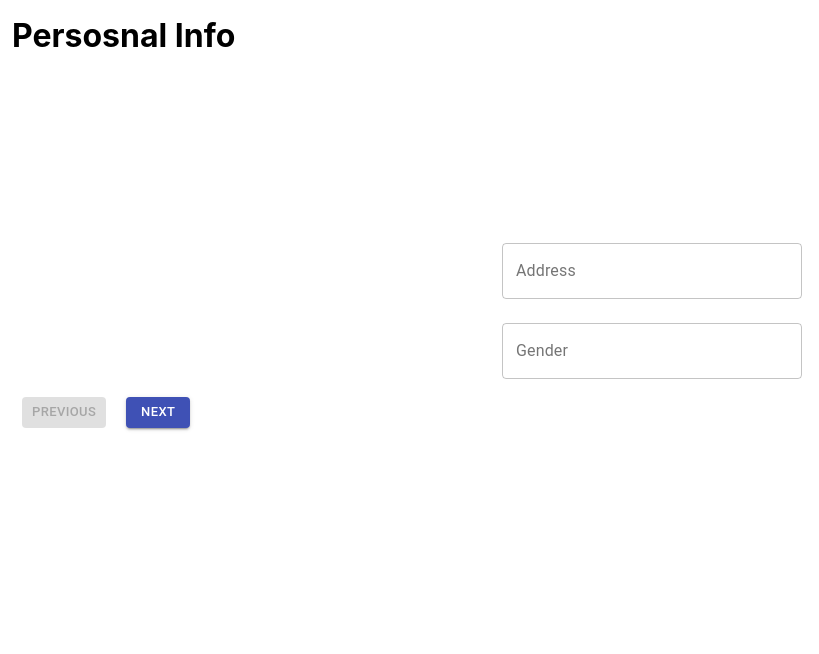
Test: testing the page changes when fields are filled › should transition to the account details page
Click the button with test id "next-button": click(158, 412) [126, 397, 190, 428]
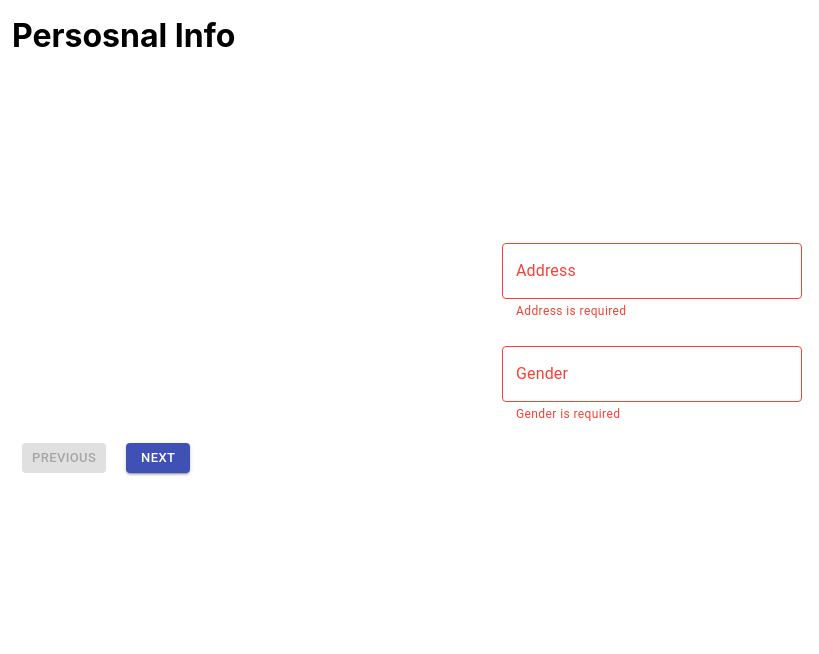
In the field with test id "address-textfield": (652, 271) [502, 243, 802, 299], type "63 berry lane"
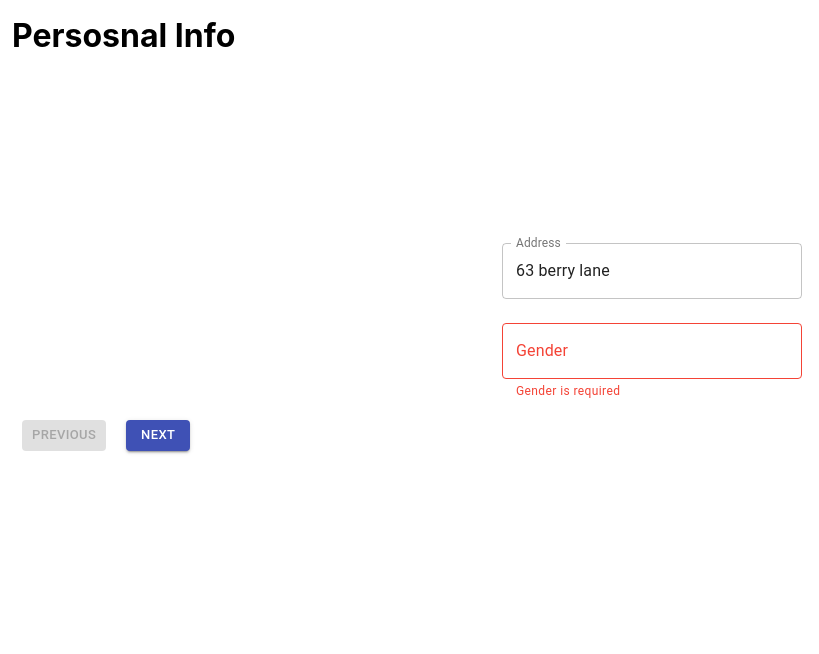
In the field with test id "gender-textfield": (652, 351) [502, 323, 802, 379], type "male"
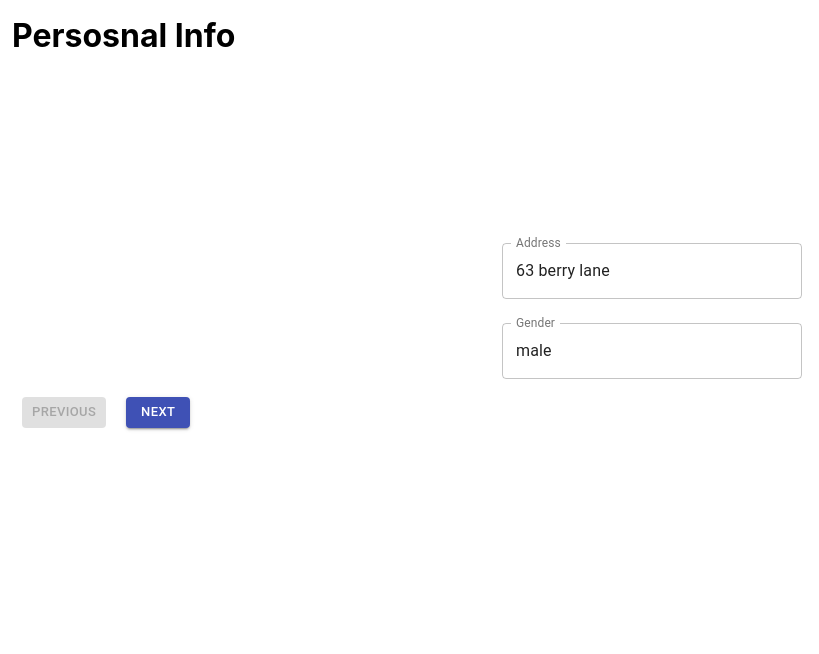
Click the button with test id "next-button": click(158, 412) [126, 397, 190, 428]
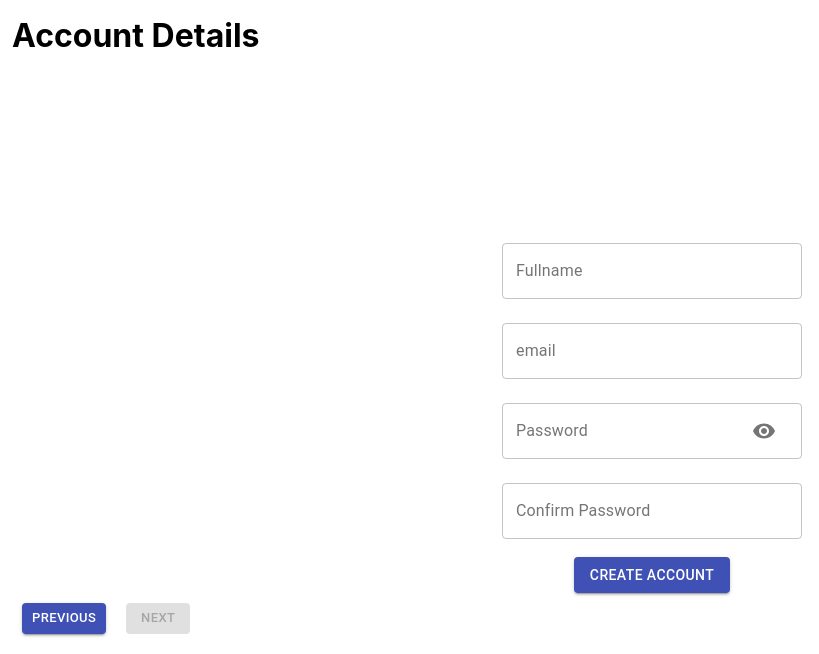
Check: the heading "Account Details" is shown, box [12, 16, 260, 55]
